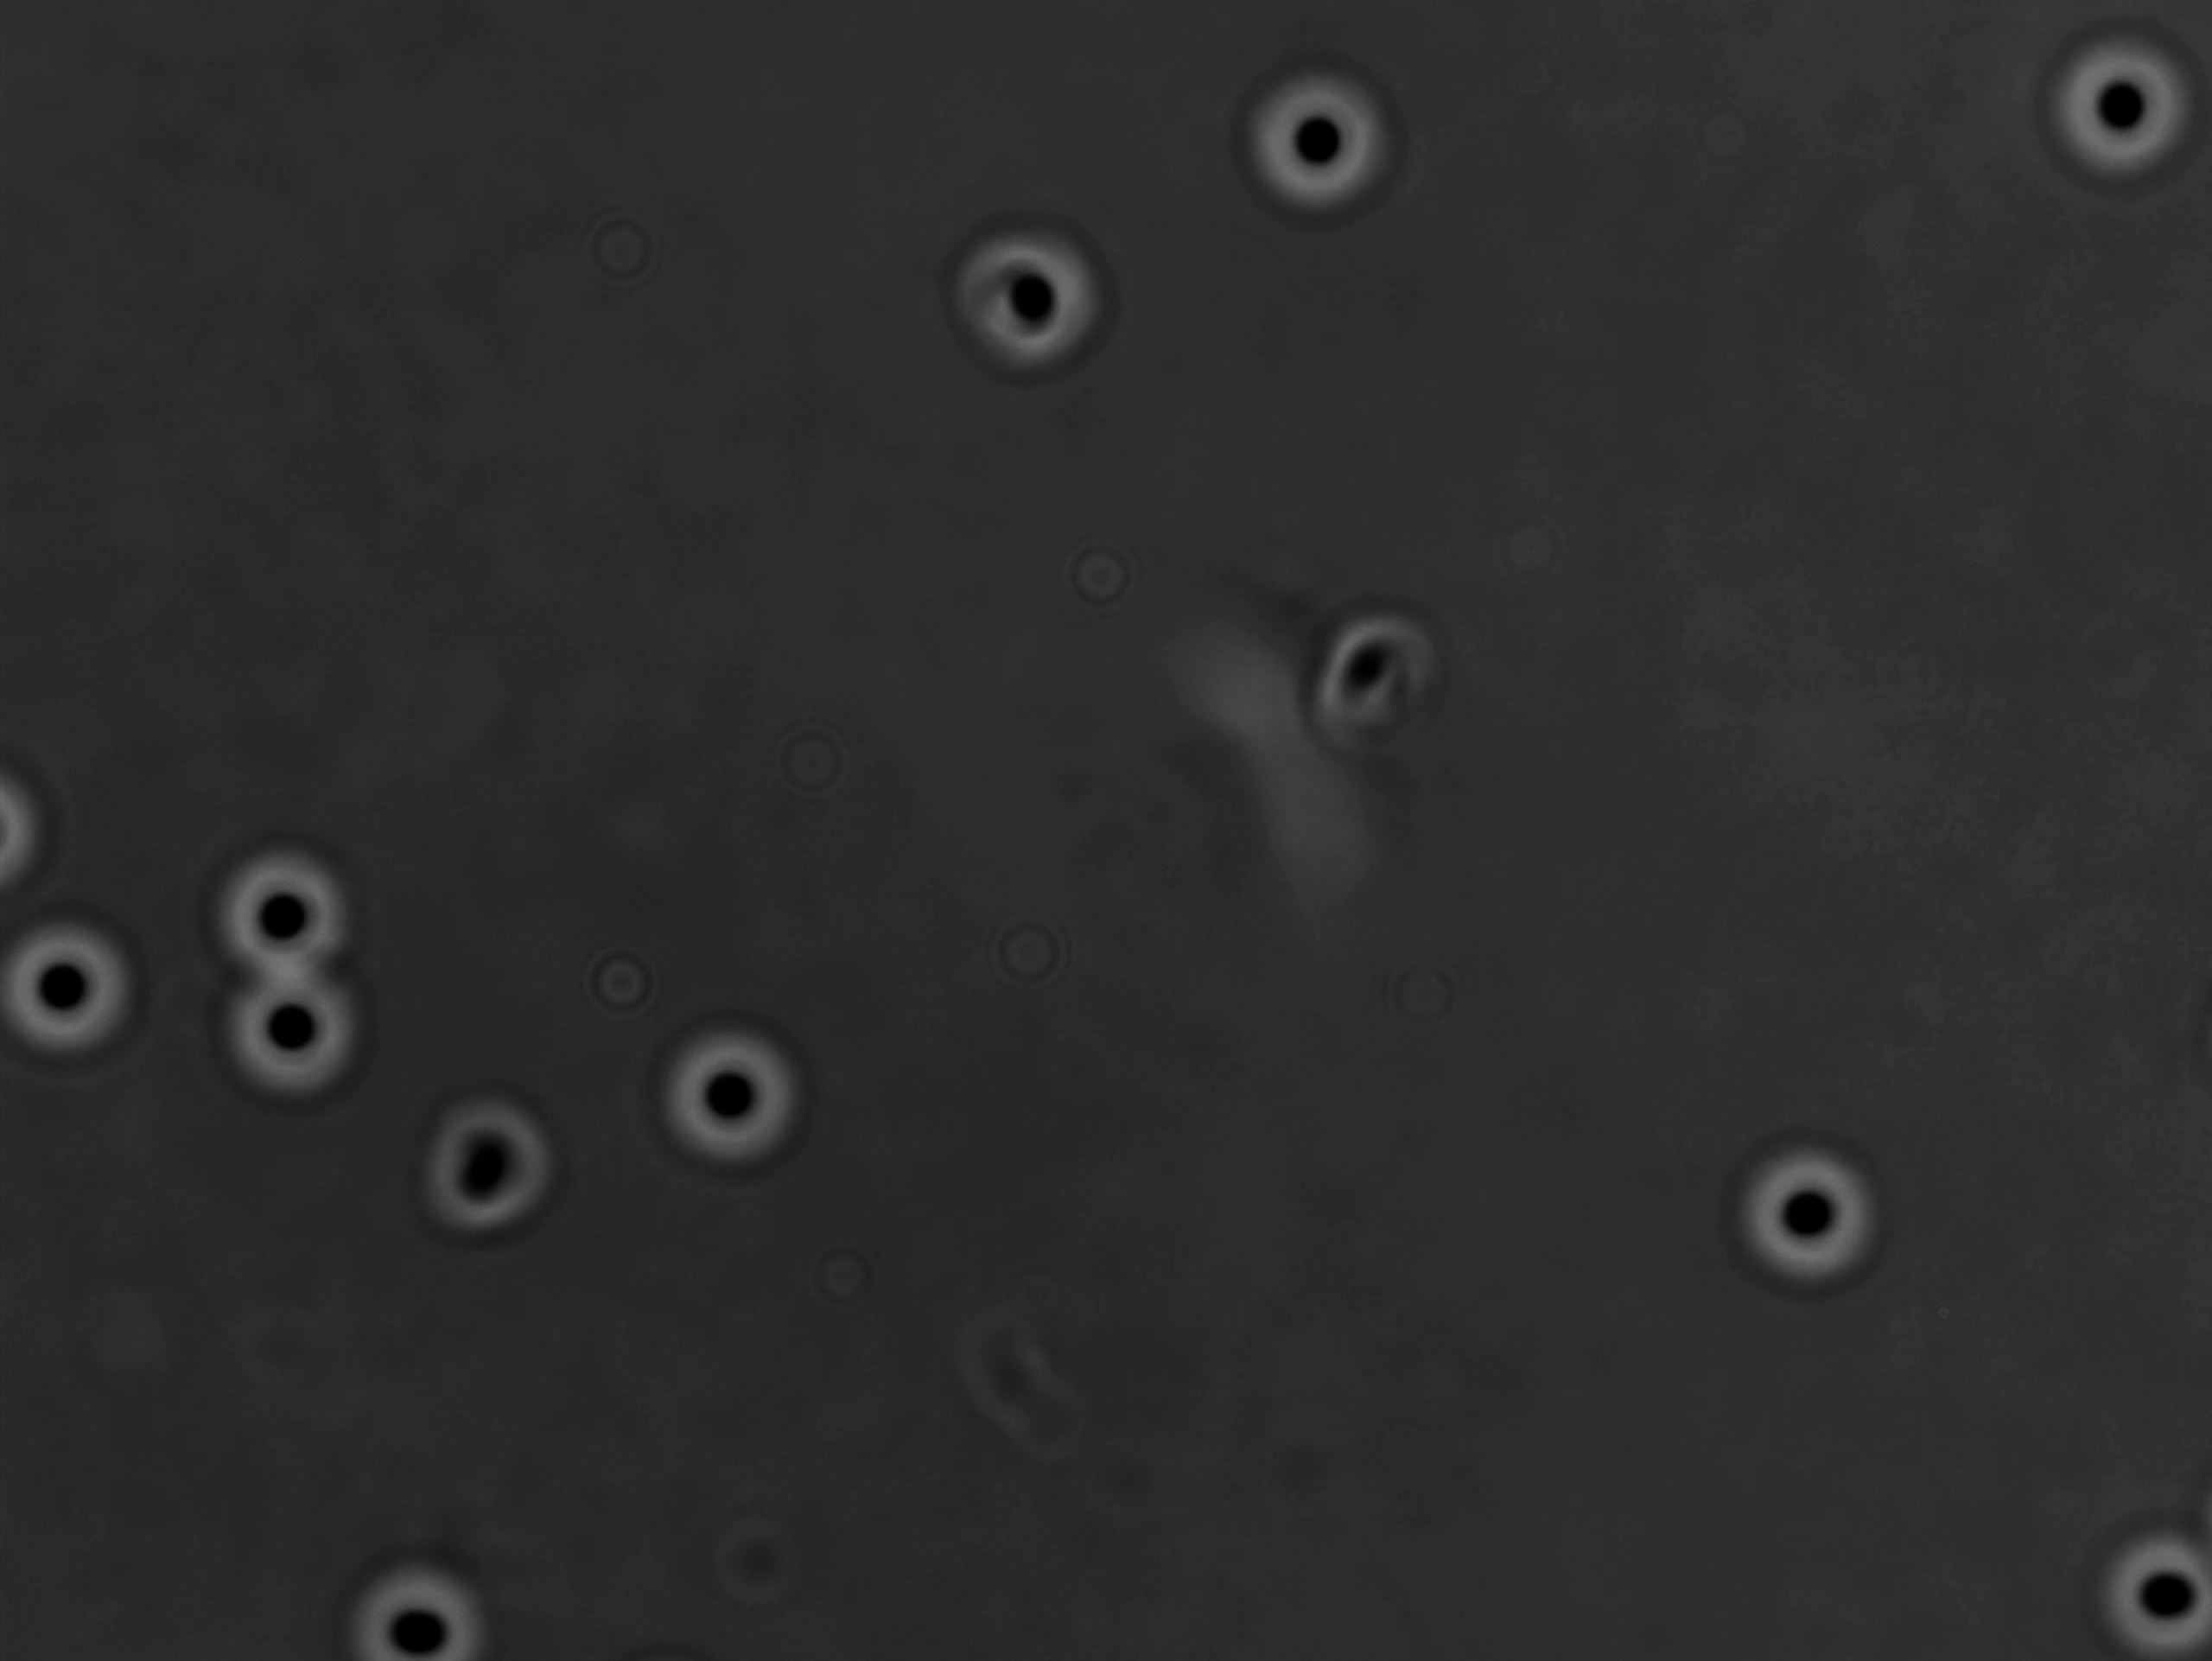depth:-40: (2032, 19, 2207, 201), (1235, 63, 1403, 223), (201, 829, 365, 988), (1724, 1134, 1882, 1298), (229, 946, 382, 1104), (647, 1022, 808, 1174), (2085, 1509, 2212, 1661)
